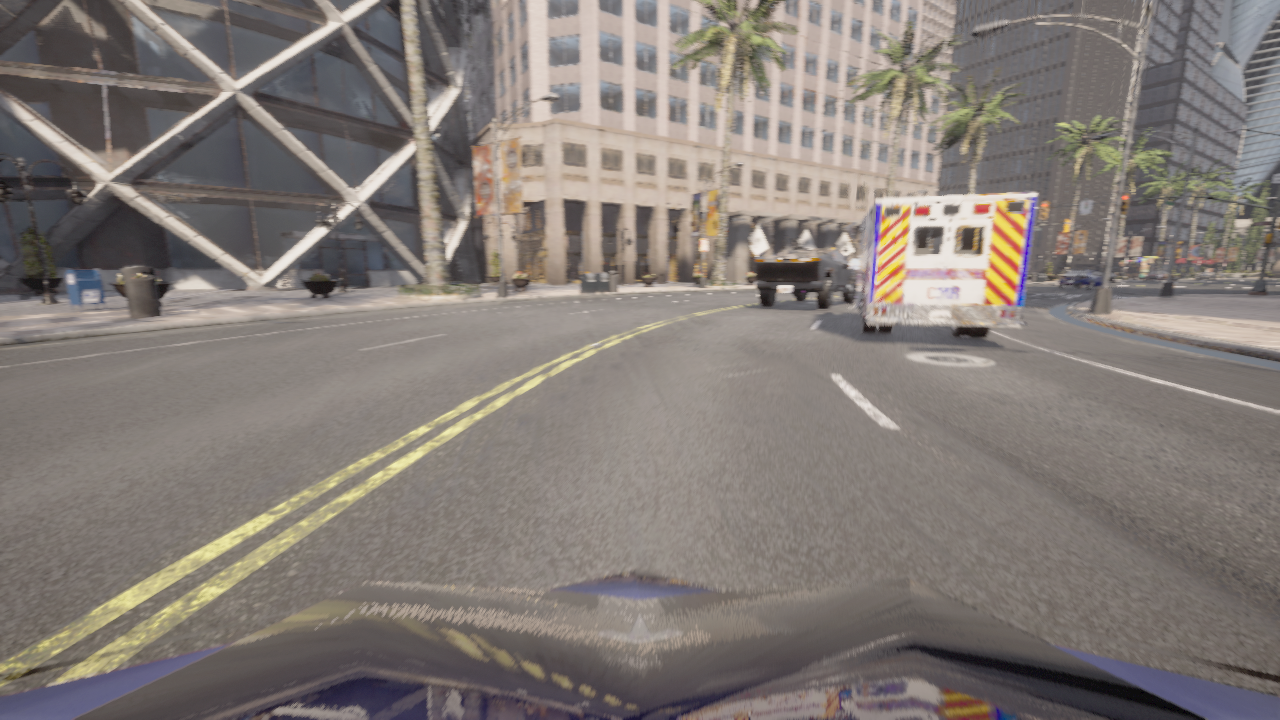cyclist: (0, 569, 1279, 719), (849, 192, 1037, 337), (755, 249, 857, 308), (1058, 270, 1102, 289), (1144, 271, 1167, 281), (1100, 272, 1115, 282), (1197, 272, 1216, 279), (1171, 274, 1179, 280)
